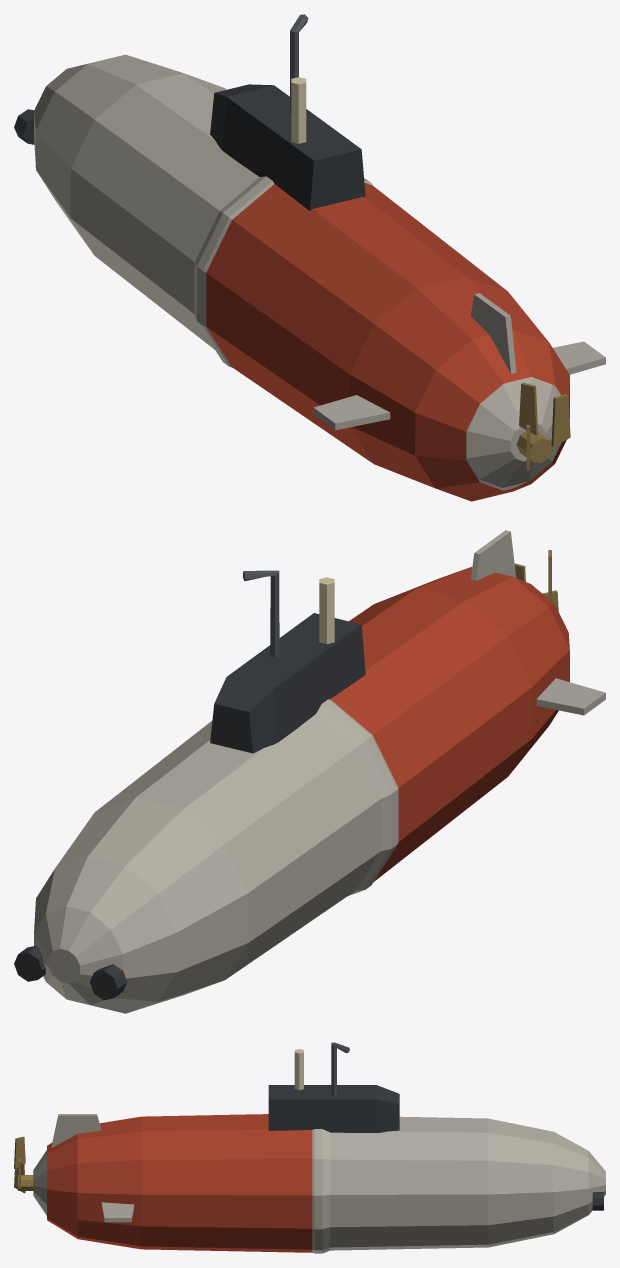
Rendered from sub_combine.glb.
The picture shows the model from 3 angles, top to bottom: view 1: azimuth 30°, elevation 25°; view 2: azimuth 150°, elevation 25°; view 3: azimuth 270°, elevation 25°; orthographic projection. The views are drawn at different scales.
Parts seen in each view (by area): view 1: sub_combine_body; view 2: sub_combine_body; view 3: sub_combine_body.
Boxes of the visible parts, x1,y1,x2,y2 form: sub_combine_body: (14, 14, 605, 501); sub_combine_body: (14, 530, 605, 1013); sub_combine_body: (14, 1042, 605, 1253).
Size of the model in its own units: 5 by 5.93 by 15.35.
